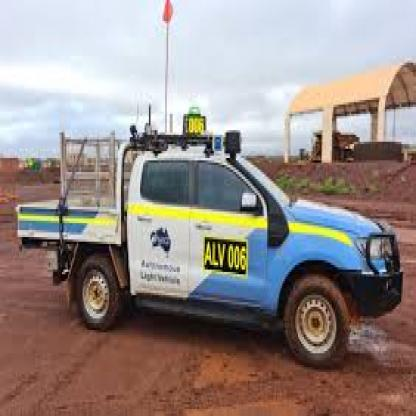light_vehicle: (22, 97, 401, 404)
